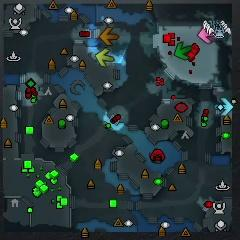x1: (198, 27, 215, 45)
x2: (96, 49, 115, 68)
x3: (215, 97, 232, 117)
x4: (175, 42, 192, 60)
x5: (99, 26, 120, 46)
